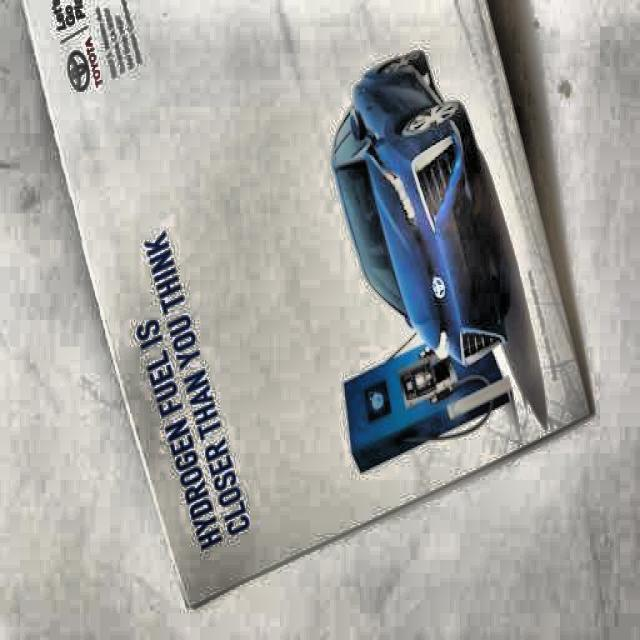Paper: (10, 0, 604, 620)
